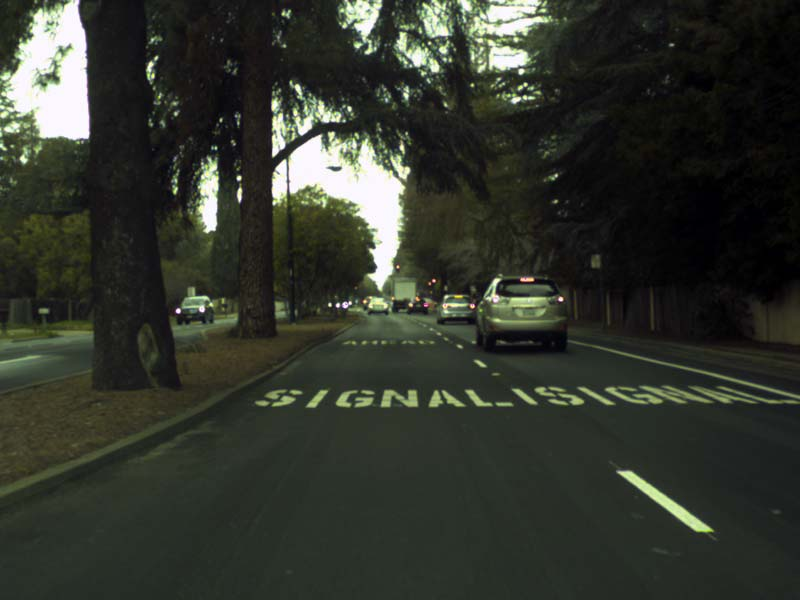Red: (396, 264, 400, 272), (431, 277, 435, 285), (428, 280, 431, 288), (353, 284, 356, 291)
